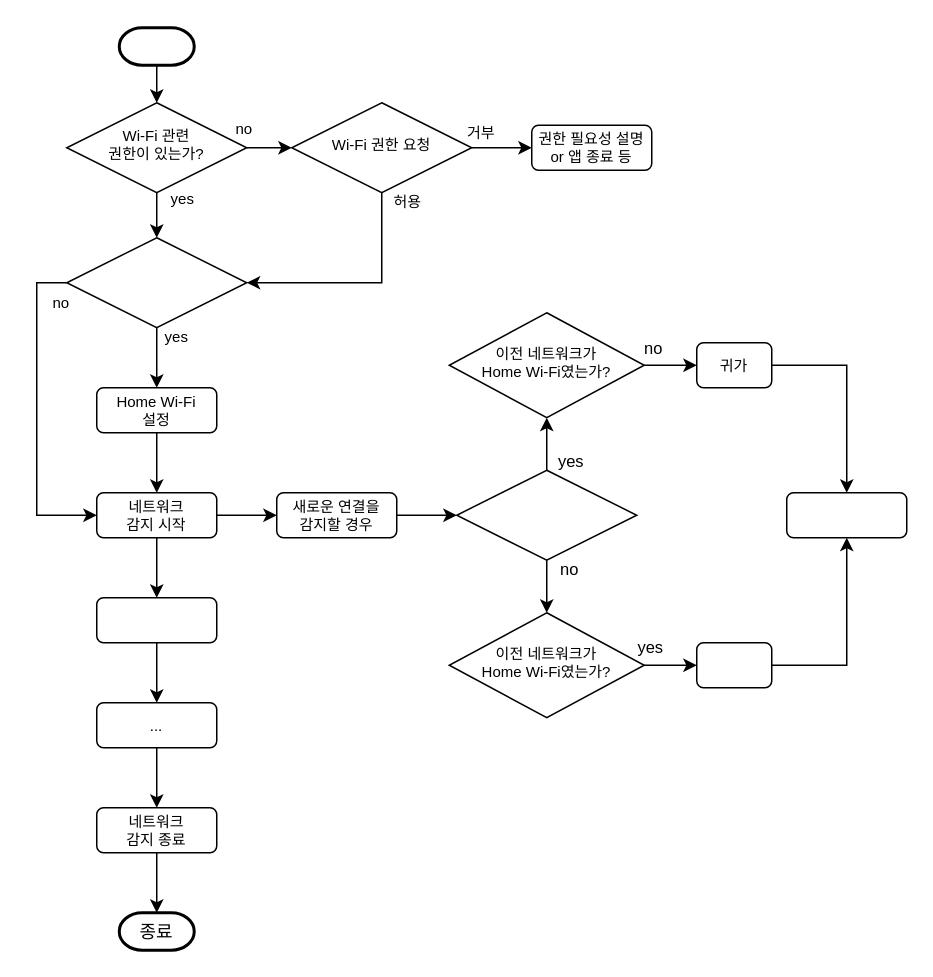
Some shapes in this 933 by 977 pixel diagram are drawn without their labels. The shapes that lost their labels are listed below. From the top down, each one's centre as x and y in pixels, then its label:
the point at 156,46: 실행
the point at 156,282: 최초 실행인가?
the point at 546,514: Home Wi-Fi 인가?
the point at 846,514: 관련 정보 제공
the point at 156,619: 메인 화면
the point at 733,664: 외출
